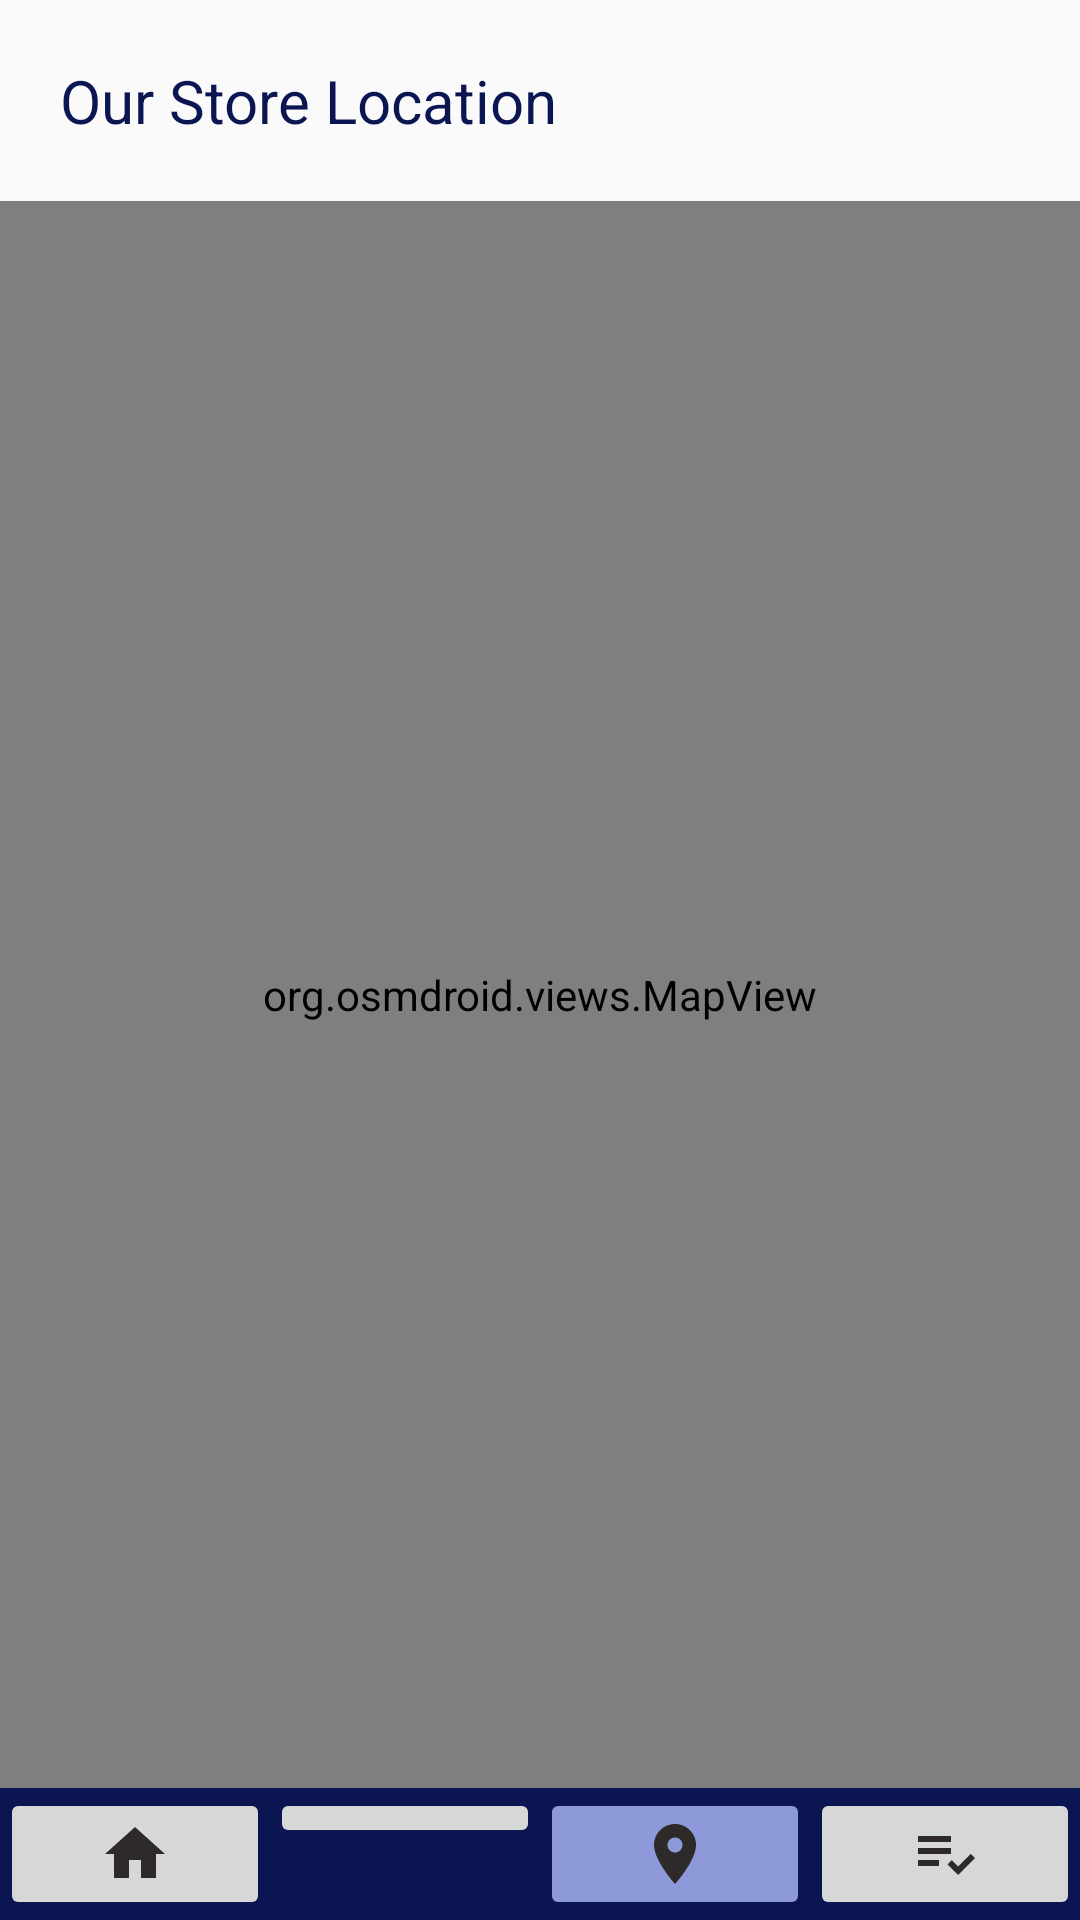

Icon click points for this 1080*1920 phone screenshot, format (x,y):
home: (135,1854)
location on: (675,1854)
playlist add check: (945,1854)
